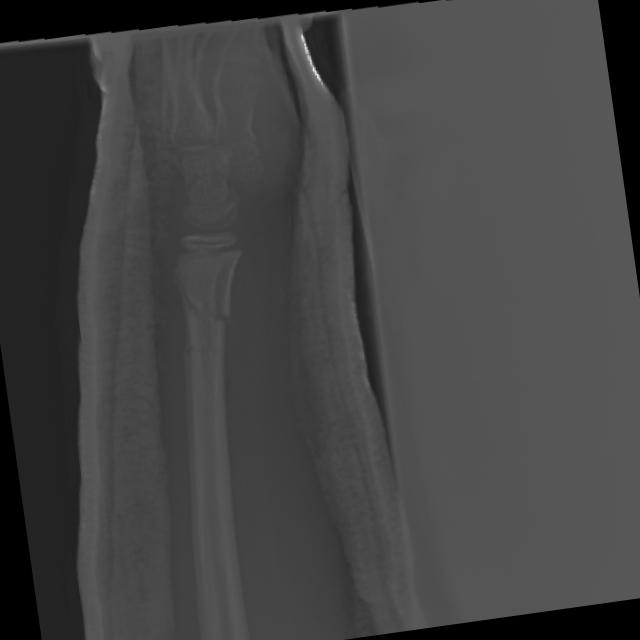wrist positive: (159, 271, 245, 362)
